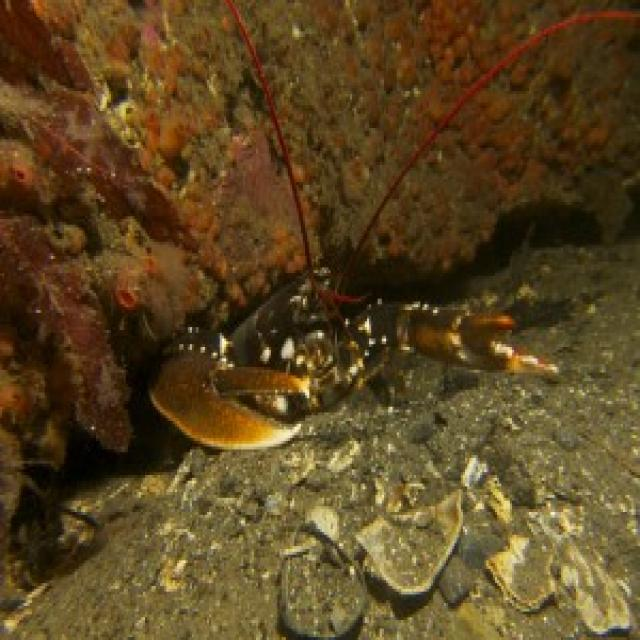lobsters: (103, 81, 622, 453)
